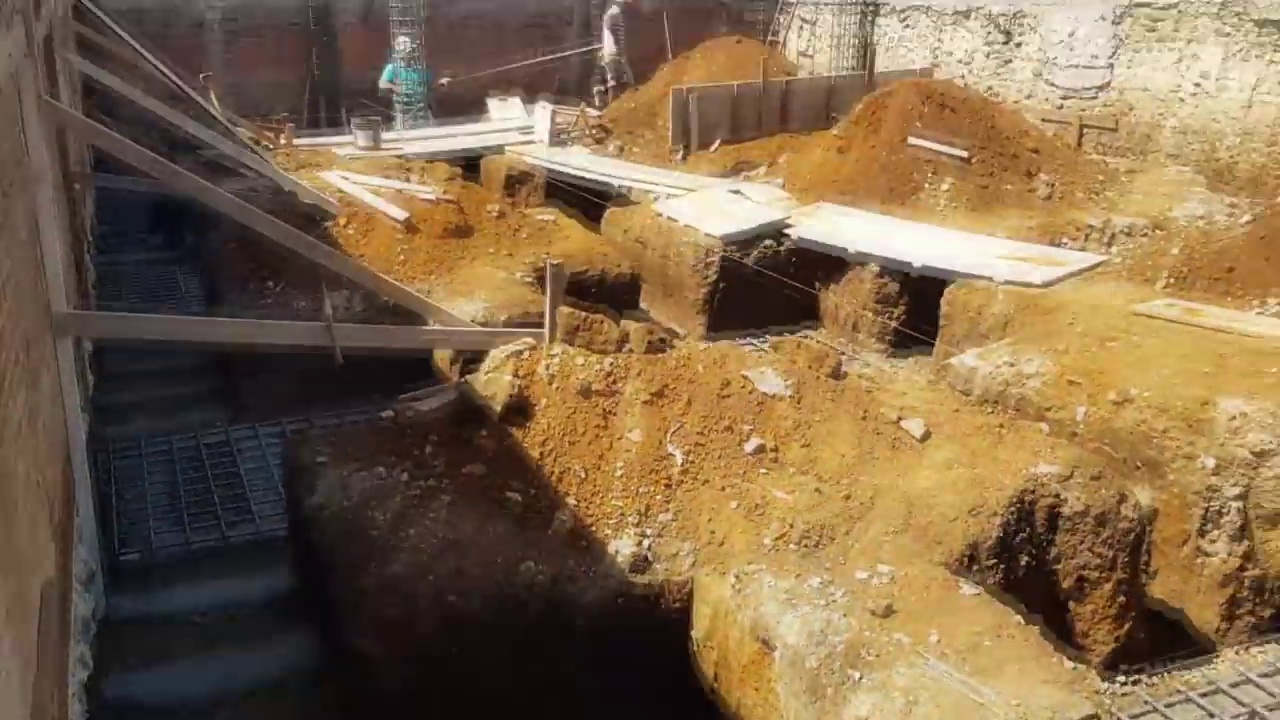helmet: (395, 36, 419, 55)
helmet-off: (613, 0, 634, 15)
helmet-on: (395, 36, 421, 69)
person: (378, 37, 450, 131), (601, 0, 634, 106)
